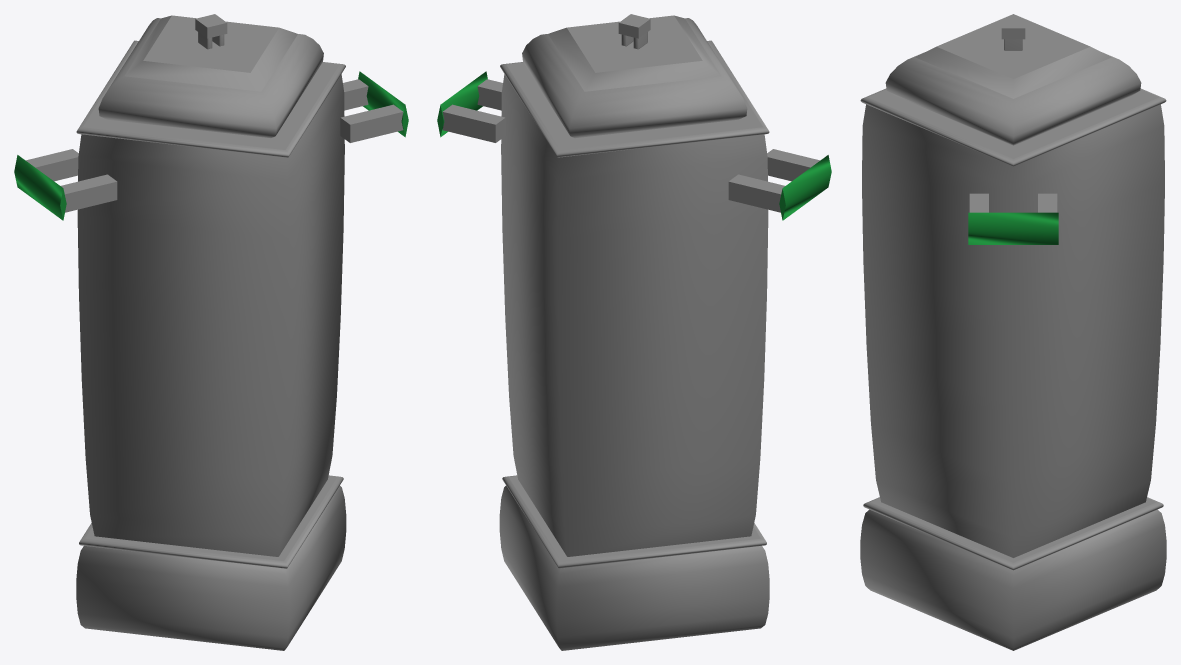
File: Garbage Cans.glb
The picture shows the model from 3 angles, left to right: view 1: azimuth 30°, elevation 25°; view 2: azimuth 150°, elevation 25°; view 3: azimuth 270°, elevation 25°; orthographic projection.
Visible parts, largest first — view 1: Root; view 2: Root; view 3: Root.
Part boxes in pixels (x1,y1,x2,y2): Root: (14, 14, 408, 650); Root: (437, 14, 831, 650); Root: (860, 14, 1166, 650).
Size of the model in its own units: 0.8354 by 1.32 by 0.6466.
